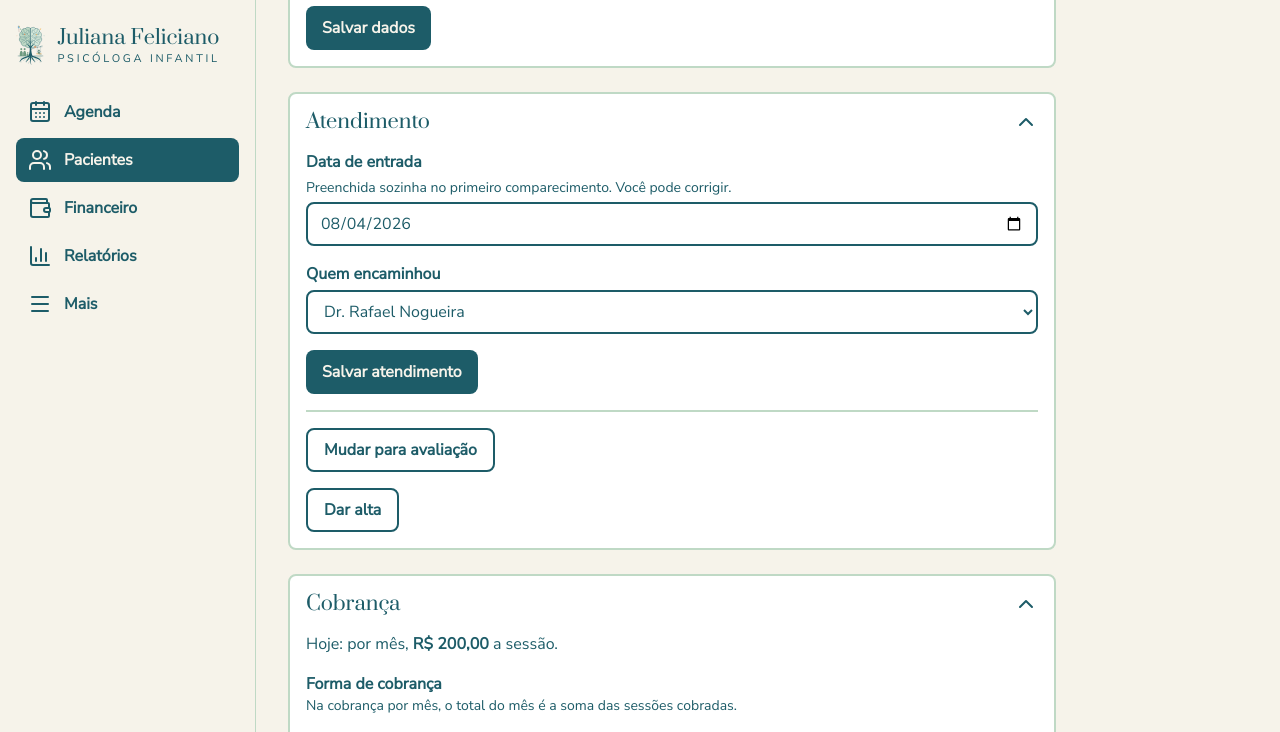
Test: SecaoAtendimento › mudar o tipo › de Psicoterapia para Avaliação abre uma avaliação nova, com as 5 etapas
This screenshot has width=1280, height=732.
(page scrolled)
What coordinates should you click on to do the following:
click the button "Mudar para avaliação"
I would click on:
 (400, 450)
Its box is left=306, top=428, right=495, bottom=472.
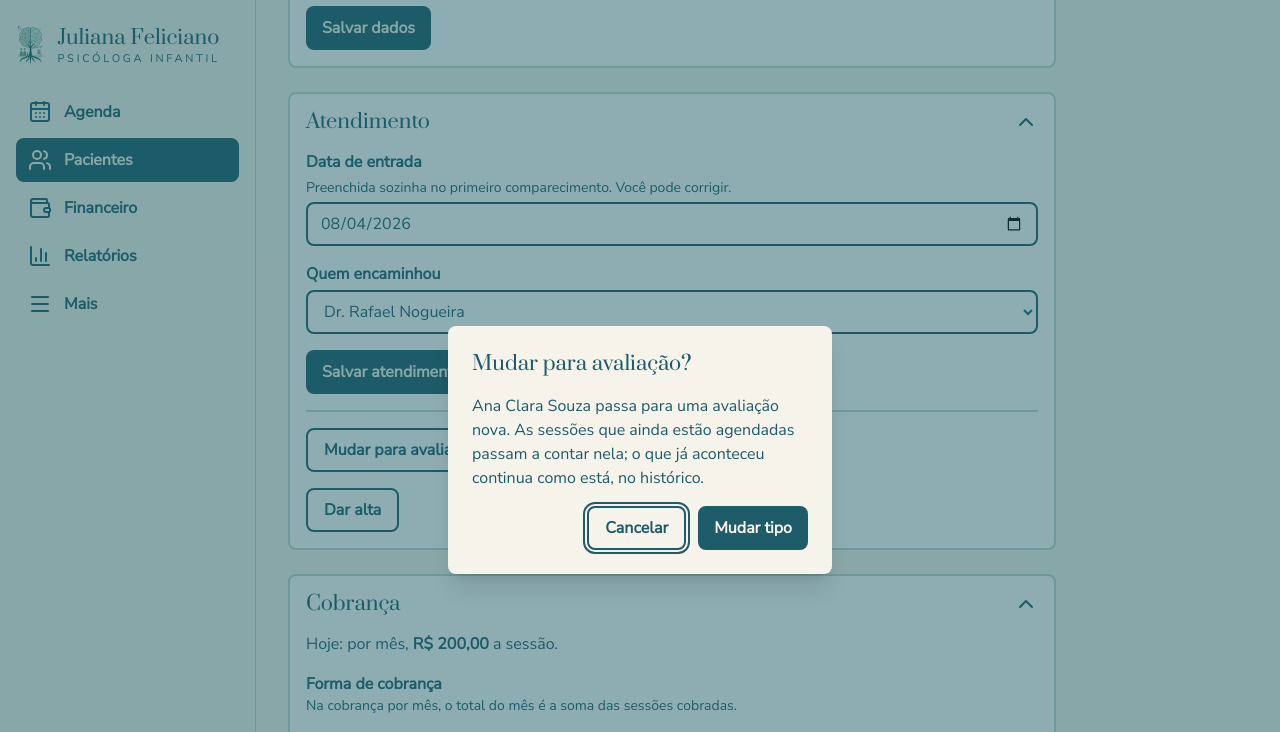
What coordinates should you click on to do the following:
click the button "Mudar tipo"
I would click on:
 (753, 528)
Its box is left=698, top=506, right=808, bottom=550.
(page scrolled)
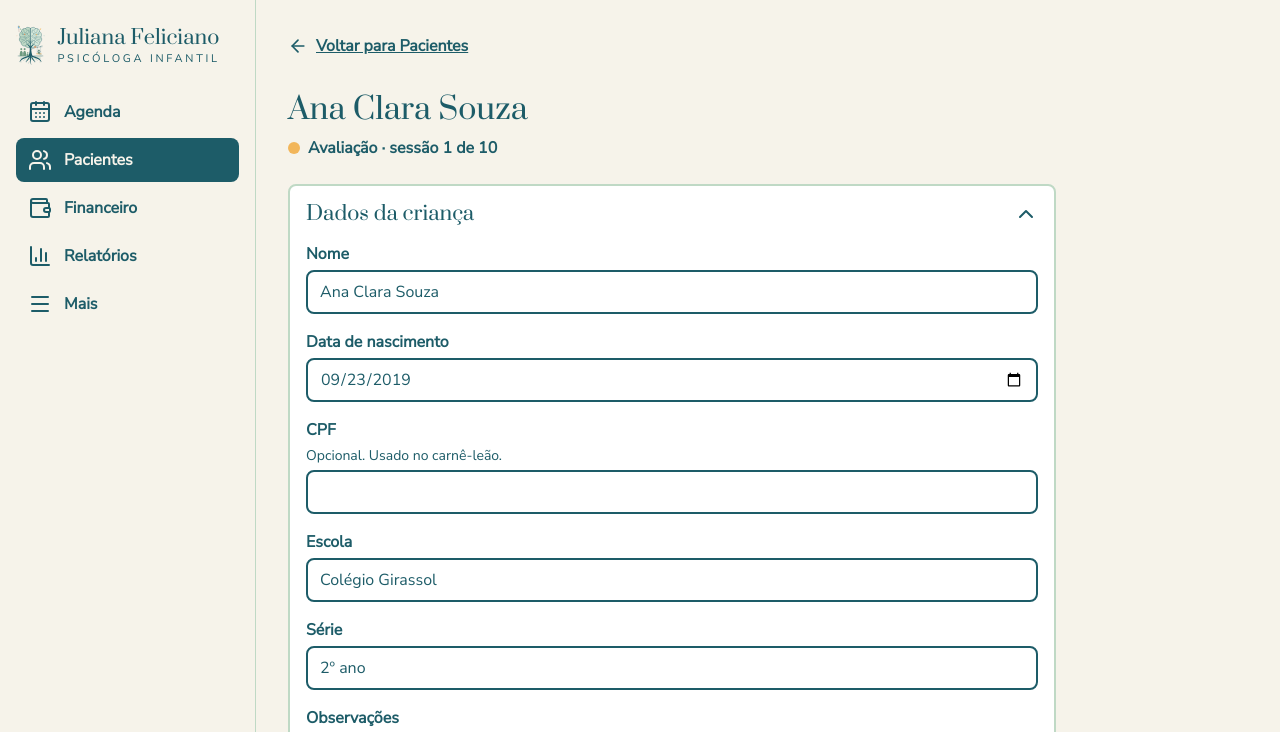
Now the text "Avaliação · sessão 1 de 10" is shown, box left=288, top=136, right=497, bottom=160
